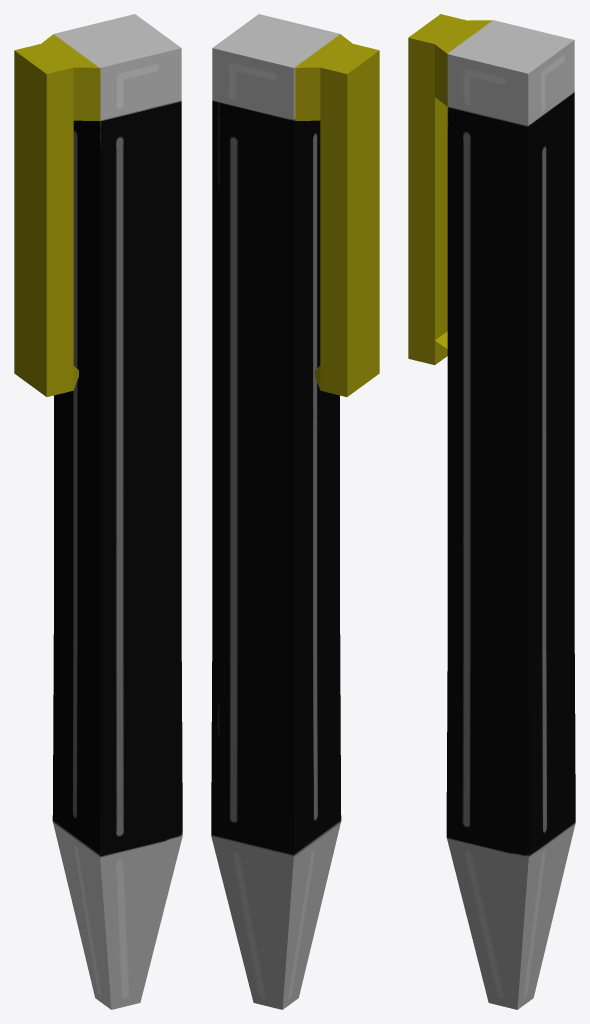
File: pen.FBX
3 renders of one model, left to right at view 1: azimuth 30°, elevation 25°; view 2: azimuth 150°, elevation 25°; view 3: azimuth 330°, elevation 25°, orthographic.
Visible parts, largest first — view 1: Box001; view 2: Box001; view 3: Box001.
Part boxes in pixels (box(x1,y1,x2,y2)): Box001: box(14, 14, 182, 1009); Box001: box(211, 14, 379, 1009); Box001: box(408, 14, 575, 1009).
Size of the model in its own units: 4.12 by 29.39 by 2.62.
